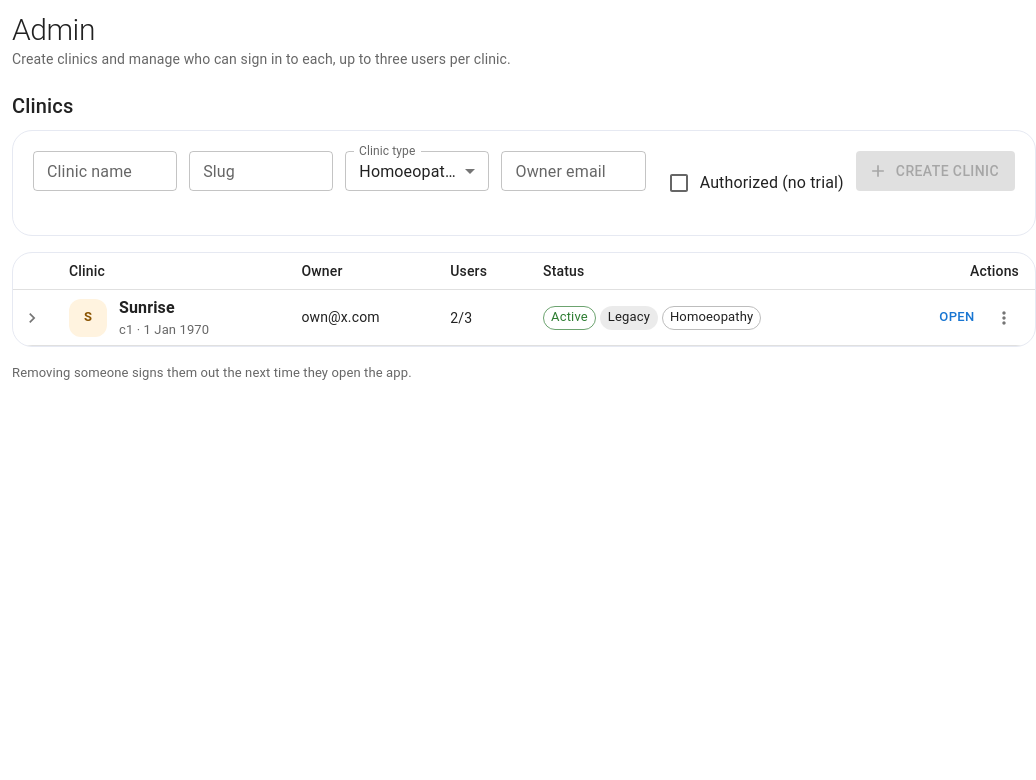
seat-less users cannot be removed or made owner
Click the button named "Show users of Sunrise". click: x=32, y=318
box: [17,303,47,333]
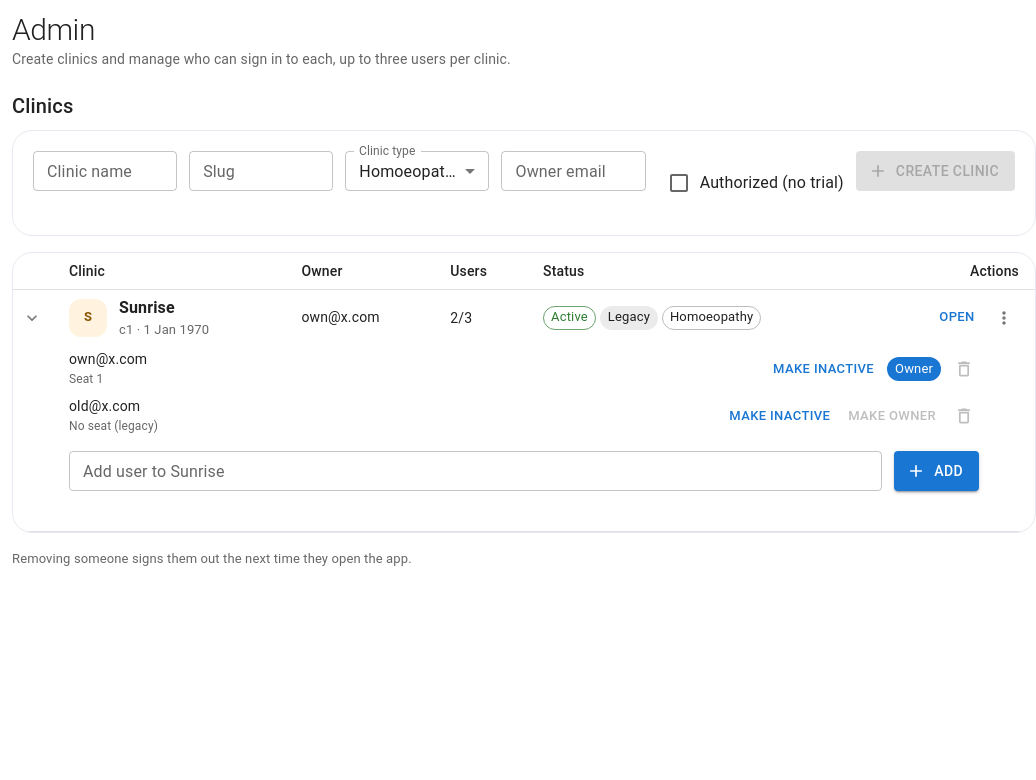
Expected: the button named "Remove old@x.com" is disabled, [949,401,979,431]
Expected: the button with aria-label "Make old@x.com owner" is disabled, [843,400,941,431]
